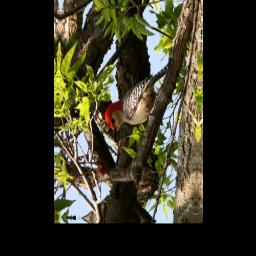Woodpecker: (102, 56, 171, 146)
